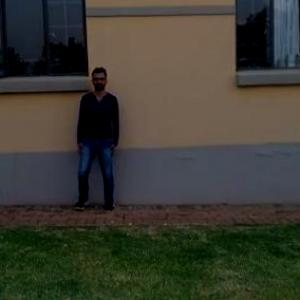follow: (75, 65, 118, 212)
